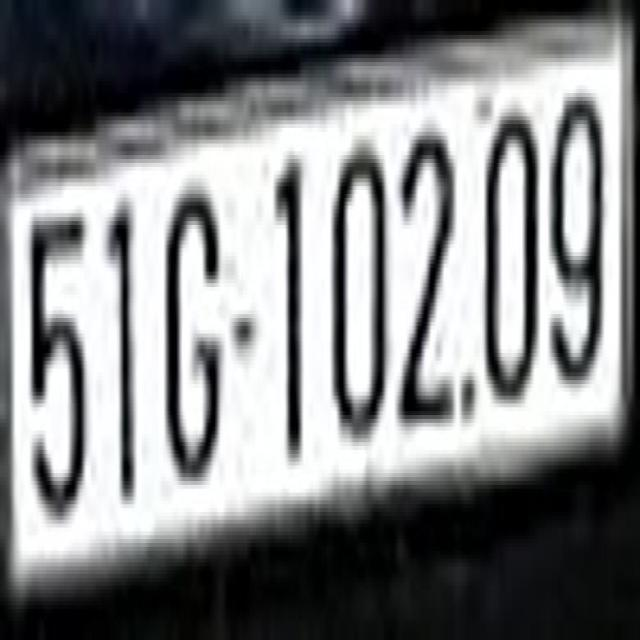0: (480, 93, 539, 415), (328, 128, 387, 446)
1: (104, 190, 139, 547), (273, 140, 310, 473)
2: (398, 117, 458, 430)
5: (28, 194, 90, 531)
9: (548, 78, 602, 392)
G: (160, 163, 224, 512)
